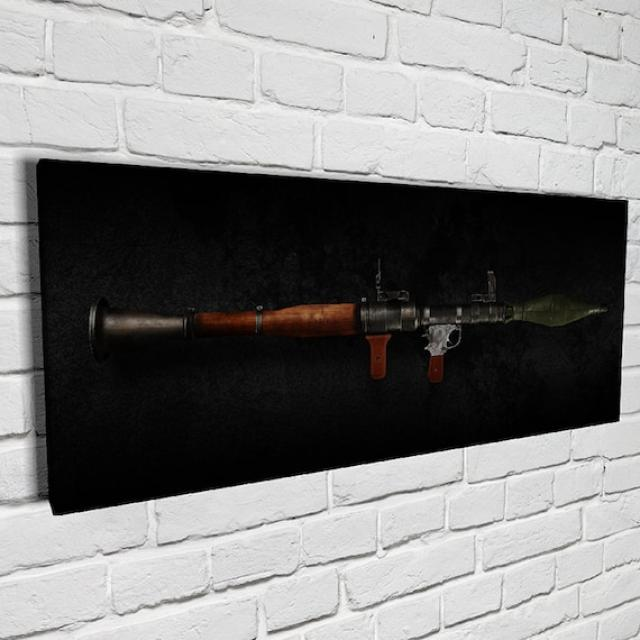Gun: (74, 242, 612, 378)
